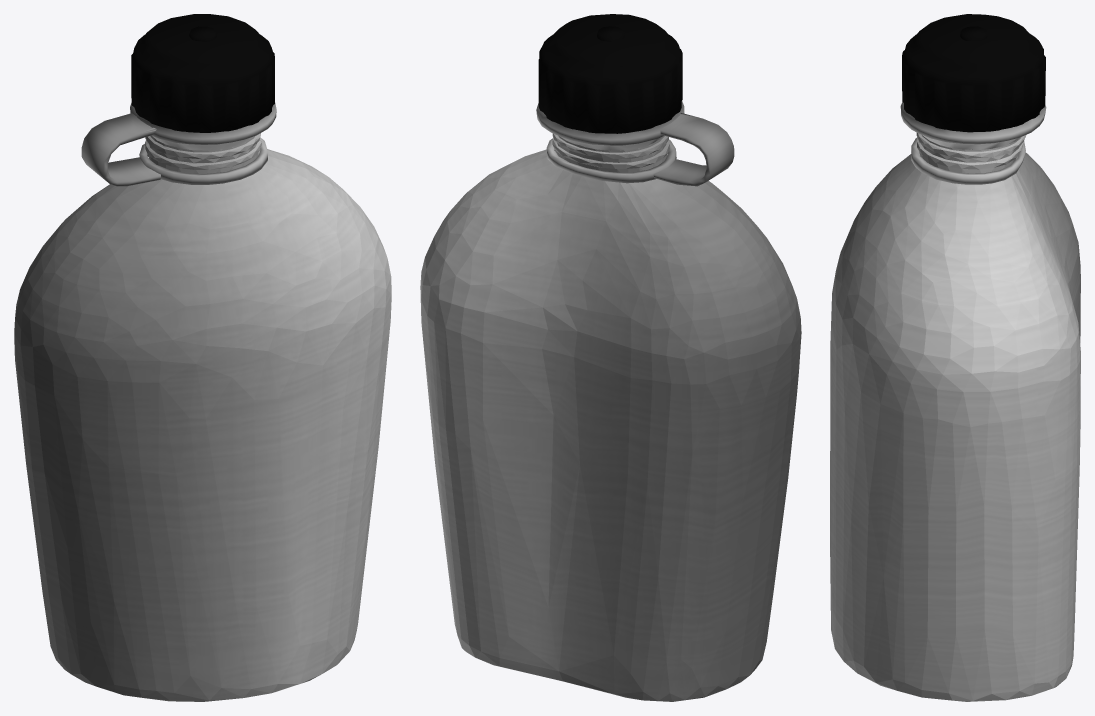
File: Canteen.fbx
3 renders of one model, left to right at view 1: azimuth 30°, elevation 25°; view 2: azimuth 150°, elevation 25°; view 3: azimuth 270°, elevation 25°, orthographic.
Parts seen in each view (by area): view 1: Canteen; view 2: Canteen; view 3: Canteen.
Boxes of the visible parts, x1=… form: Canteen: x1=14, y1=14, x2=391, y2=701; Canteen: x1=420, y1=14, x2=801, y2=701; Canteen: x1=830, y1=14, x2=1080, y2=701.
Size of the model in its own units: 282 by 470 by 176.
